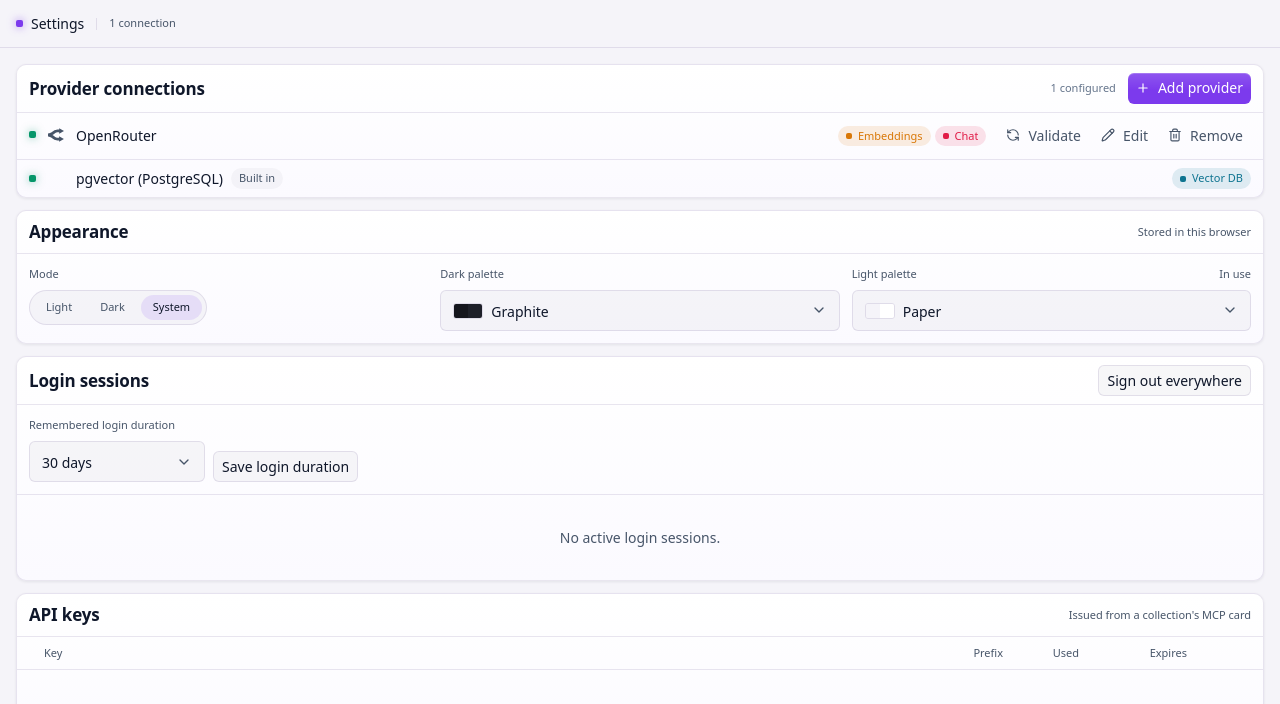
Test: SettingsPage (provider connections) › validates a saved connection and shows the outcome
Click the button with aria-label "validate openrouter". click: (1044, 136)
box: x1=998 y1=120 x2=1089 y2=151
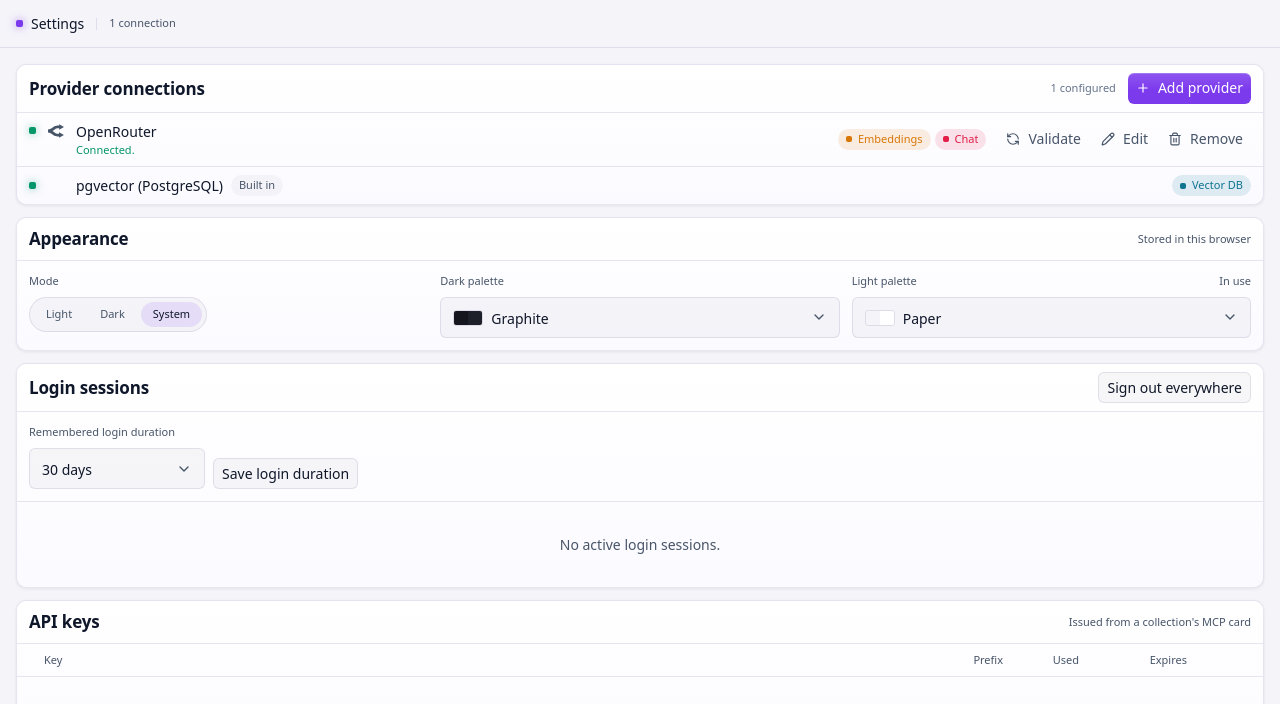
Expected: the text "Connected." is shown, x1=76 y1=142 x2=135 y2=156
